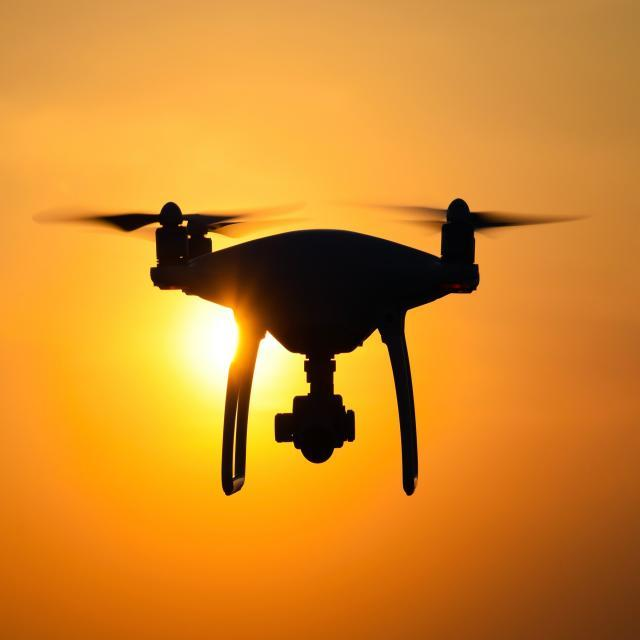drones: (36, 176, 602, 498)
